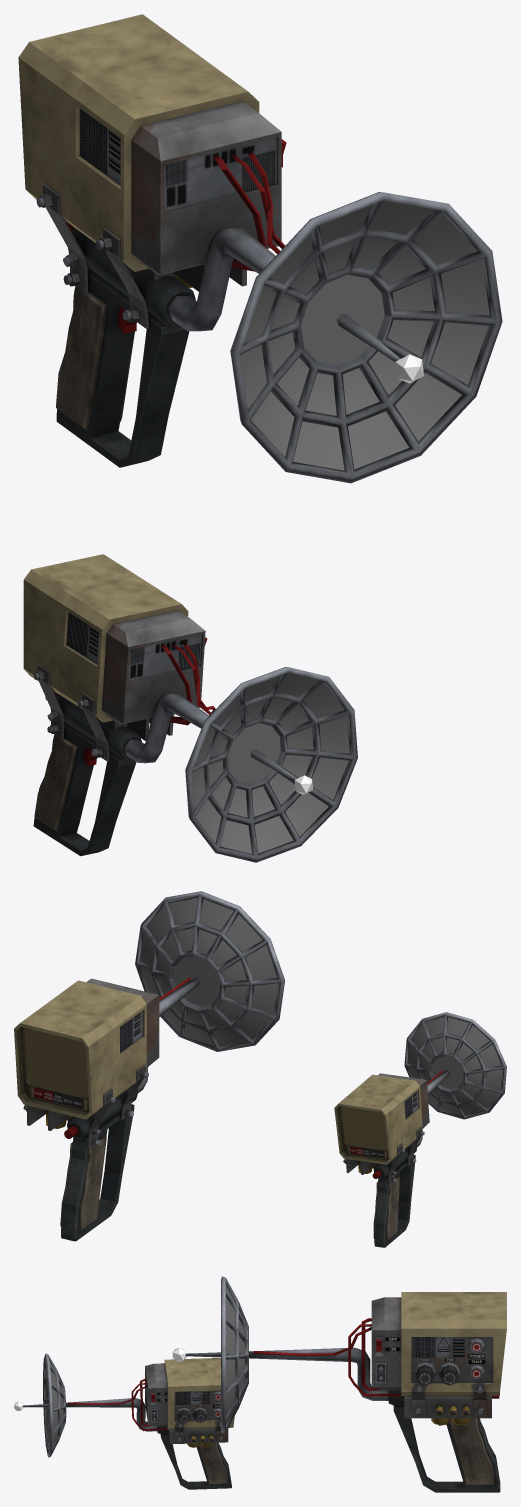
The model's file is ResourceScanner.glb.
3 renders of one model, top to bottom at view 1: azimuth 30°, elevation 25°; view 2: azimuth 150°, elevation 25°; view 3: azimuth 270°, elevation 25°, orthographic. The views are drawn at different scales.
Visible parts, largest first — view 1: WorldModel, scanner; view 2: WorldModel, scanner; view 3: WorldModel, scanner.
Part boxes in pixels (bbox=[...]): WorldModel: bbox=[18, 14, 502, 483]; scanner: bbox=[23, 554, 357, 862]; WorldModel: bbox=[14, 891, 284, 1241]; scanner: bbox=[334, 1012, 506, 1247]; WorldModel: bbox=[172, 1276, 506, 1492]; scanner: bbox=[14, 1353, 234, 1489].
Size of the model in its own units: 0.7573 by 0.8175 by 1.31.
Materials: 4 (3 with a texture image).
